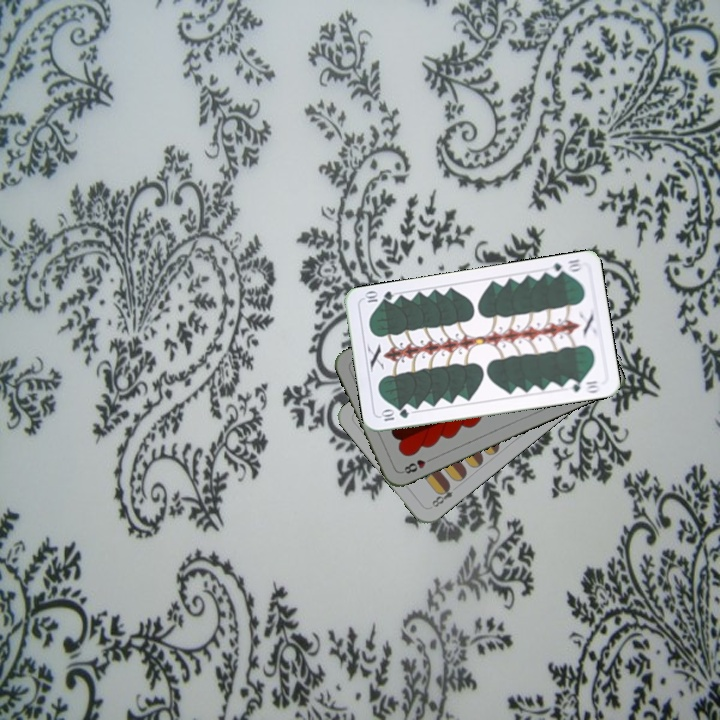E8: (428, 480, 455, 510)
G10: (544, 255, 585, 279), (377, 405, 411, 424)
H8: (398, 453, 436, 476)
